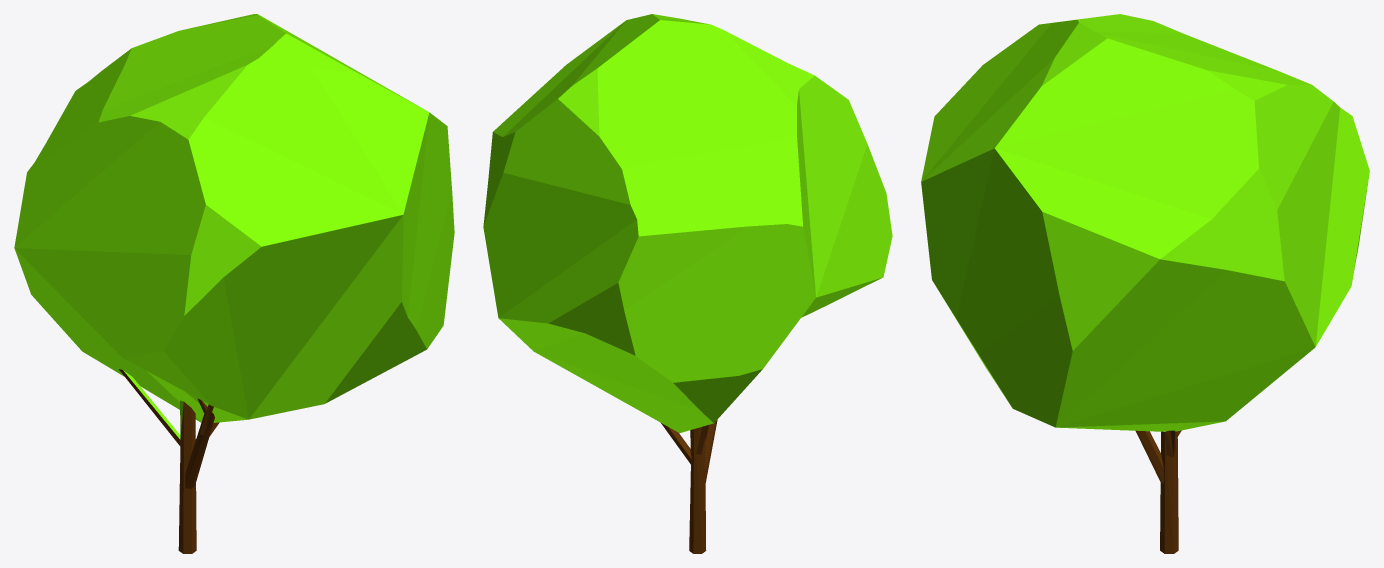
The model's file is Tree_Blob_02.FBX.
3 renders of one model, left to right at view 1: azimuth 30°, elevation 25°; view 2: azimuth 150°, elevation 25°; view 3: azimuth 270°, elevation 25°, orthographic. The views are drawn at different scales.
Visible parts, largest first — view 1: Tree_Blob_02; view 2: Tree_Blob_02; view 3: Tree_Blob_02.
Part boxes in pixels (left/top/right/bottom): Tree_Blob_02: left=14, top=14, right=454, bottom=553; Tree_Blob_02: left=483, top=14, right=892, bottom=553; Tree_Blob_02: left=921, top=14, right=1369, bottom=553.
Bounding box in the file's own units: 14.79 × 14.81 × 19.93.
